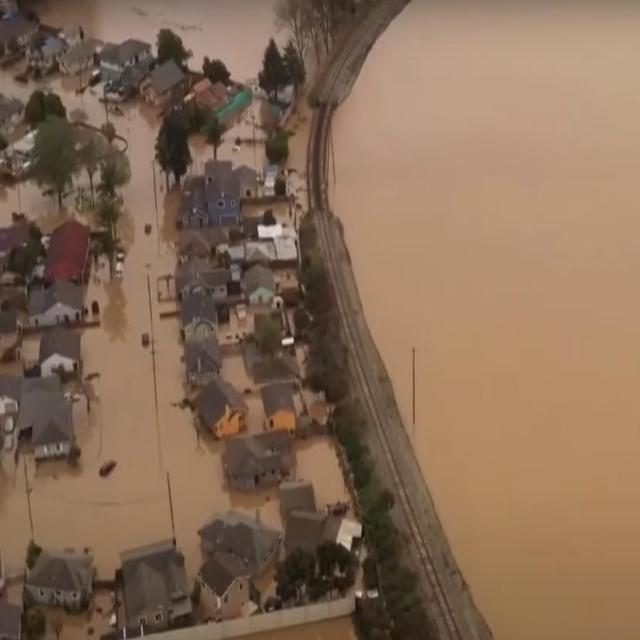flood: (330, 2, 640, 638), (0, 95, 246, 582), (38, 0, 274, 79), (0, 61, 106, 126), (0, 170, 94, 232), (296, 436, 350, 509), (286, 103, 313, 171), (217, 123, 255, 167), (190, 134, 212, 173), (256, 143, 268, 170)
house: (200, 502, 282, 591), (116, 538, 192, 628), (8, 372, 76, 464), (220, 431, 302, 496), (177, 165, 241, 236), (30, 545, 96, 612), (198, 544, 255, 620), (42, 217, 93, 286), (197, 378, 250, 440), (26, 280, 86, 332), (138, 59, 187, 115), (37, 325, 83, 382), (101, 38, 152, 79), (261, 379, 298, 435), (178, 258, 228, 298), (182, 295, 220, 338), (185, 338, 222, 381), (64, 37, 97, 76), (246, 263, 276, 303), (25, 41, 57, 68)
